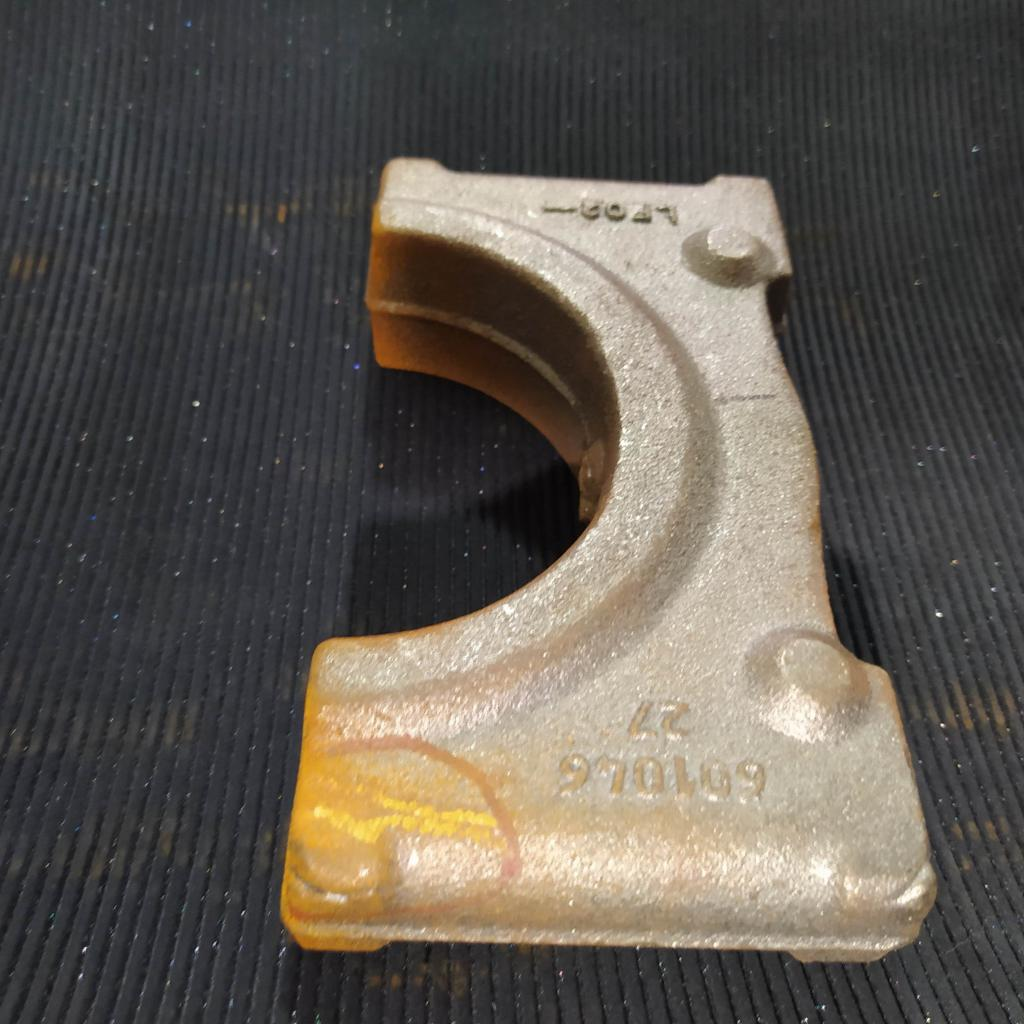rechupe: (287, 864, 379, 907), (886, 856, 933, 908)
